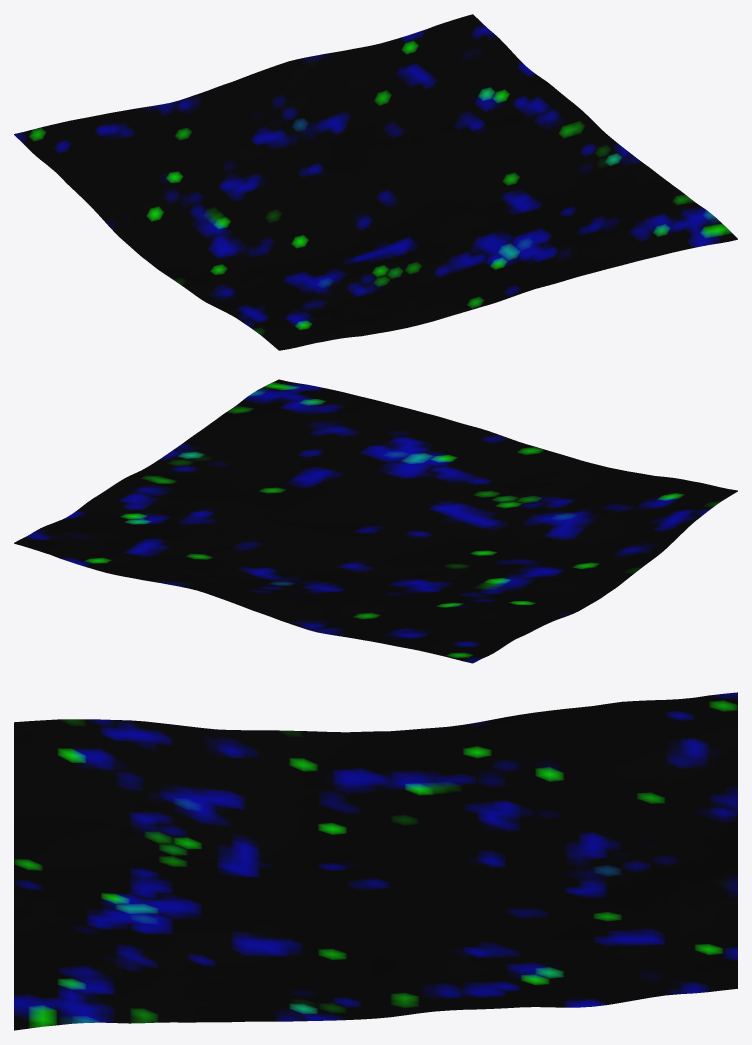
File: coast_-2400_-2400_800.glb
The picture shows the model from 3 angles, top to bottom: view 1: azimuth 30°, elevation 25°; view 2: azimuth 150°, elevation 25°; view 3: azimuth 270°, elevation 25°; orthographic projection. The views are drawn at different scales.
Visible parts, largest first — view 1: terrain; view 2: terrain; view 3: terrain.
Part boxes in pixels (x1,y1,x2,y2): terrain: (14,14,737,350); terrain: (14,379,737,663); terrain: (14,692,737,1030).
Size of the model in its own units: 800 by 72.93 by 800.
